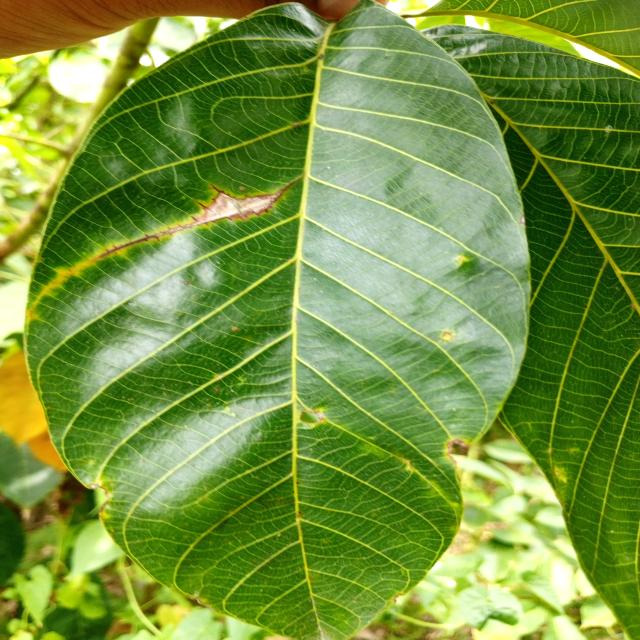Corynespora: (97, 178, 300, 258)
